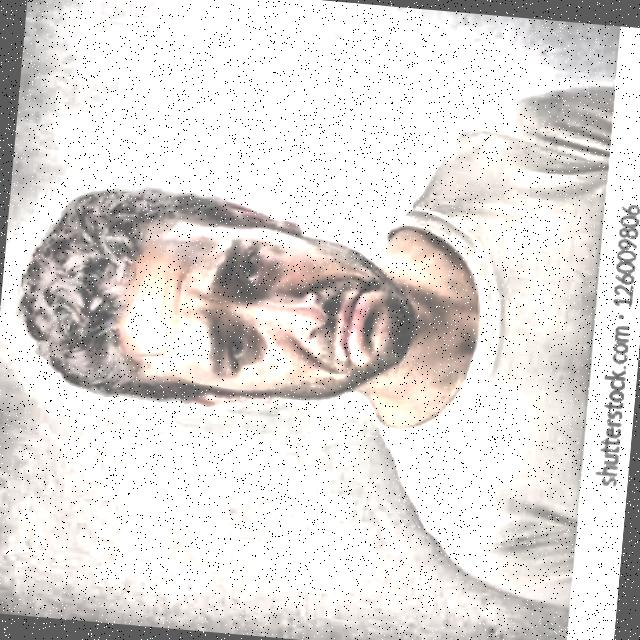sad: (0, 169, 428, 437)
